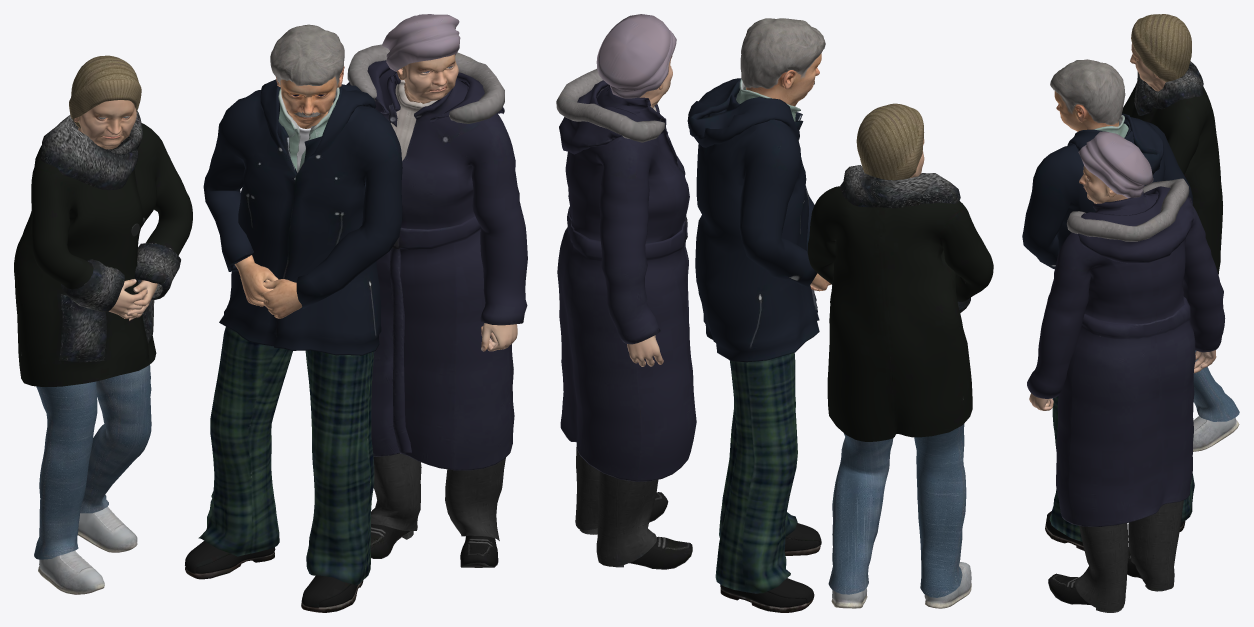
The model's file is looking_at_elthora-transformed.glb.
3 renders of one model, left to right at view 1: azimuth 30°, elevation 25°; view 2: azimuth 150°, elevation 25°; view 3: azimuth 270°, elevation 25°, orthographic. The views are drawn at different scales.
Visible parts, largest first — view 1: defaultMaterial.043, defaultMaterial.003, defaultMaterial.022, defaultMaterial.042, defaultMaterial.040, defaultMaterial.020, defaultMaterial.004; view 2: defaultMaterial.003, defaultMaterial.022, defaultMaterial.043, defaultMaterial.040, defaultMaterial.042, defaultMaterial.004; view 3: defaultMaterial.003, defaultMaterial.022, defaultMaterial.043, defaultMaterial.040, defaultMaterial.004, defaultMaterial.042, defaultMaterial.020.
Part boxes in pixels (left/top/right/bottom): defaultMaterial.043: left=185, top=79, right=402, bottom=612; defaultMaterial.003: left=346, top=14, right=527, bottom=567; defaultMaterial.022: left=14, top=55, right=192, bottom=594; defaultMaterial.042: left=234, top=66, right=344, bottom=318; defaultMaterial.040: left=270, top=24, right=344, bottom=117; defaultMaterial.020: left=74, top=100, right=157, bottom=320; defaultMaterial.004: left=396, top=54, right=517, bottom=351; defaultMaterial.003: left=556, top=14, right=696, bottom=569; defaultMaterial.022: left=807, top=103, right=993, bottom=608; defaultMaterial.043: left=687, top=78, right=821, bottom=612; defaultMaterial.040: left=740, top=18, right=825, bottom=88; defaultMaterial.042: left=746, top=43, right=831, bottom=291; defaultMaterial.004: left=627, top=56, right=672, bottom=366; defaultMaterial.003: left=1027, top=131, right=1225, bottom=612; defaultMaterial.022: left=1122, top=14, right=1239, bottom=451; defaultMaterial.043: left=1022, top=113, right=1194, bottom=550; defaultMaterial.040: left=1050, top=59, right=1125, bottom=124; defaultMaterial.004: left=1029, top=165, right=1216, bottom=410; defaultMaterial.042: left=1054, top=91, right=1119, bottom=131; defaultMaterial.020: left=1130, top=43, right=1165, bottom=91.
Size of the model in its own units: 2.39 by 2.83 by 1.19.
8 materials, 8 textured.
